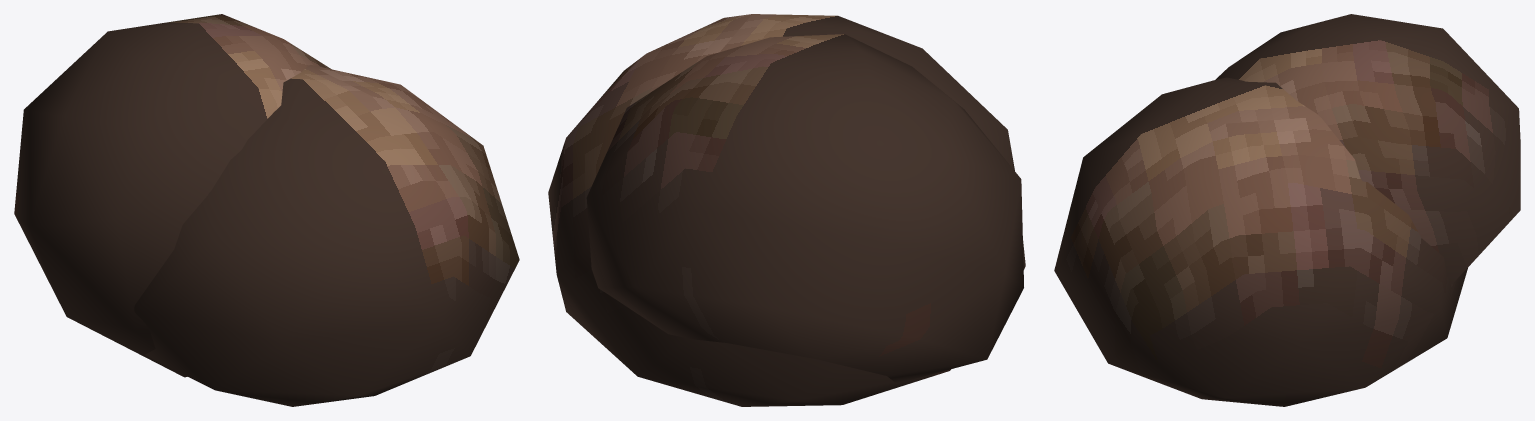
The model's file is fg_mush4.dae.
3 views of the same model, side by side, from view 1: azimuth 30°, elevation 25°; view 2: azimuth 150°, elevation 25°; view 3: azimuth 270°, elevation 25° (orthographic). The views are drawn at different scales.
Parts seen in each view (by area): view 1: fg_mush4; view 2: fg_mush4; view 3: fg_mush4.
Part boxes in pixels (bbox=[...]): fg_mush4: bbox=[14, 14, 519, 406]; fg_mush4: bbox=[548, 14, 1025, 406]; fg_mush4: bbox=[1054, 14, 1520, 406].
Bounding box in the file's own units: 11.07 × 7.73 × 10.93.
1 material, 1 textured.
